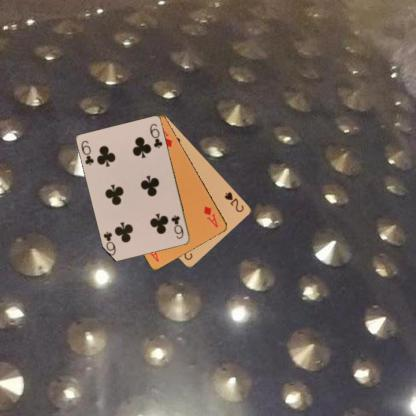2s: (222, 189, 245, 213)
6c: (78, 138, 96, 166), (169, 213, 185, 240)
Ad: (201, 203, 220, 229)
